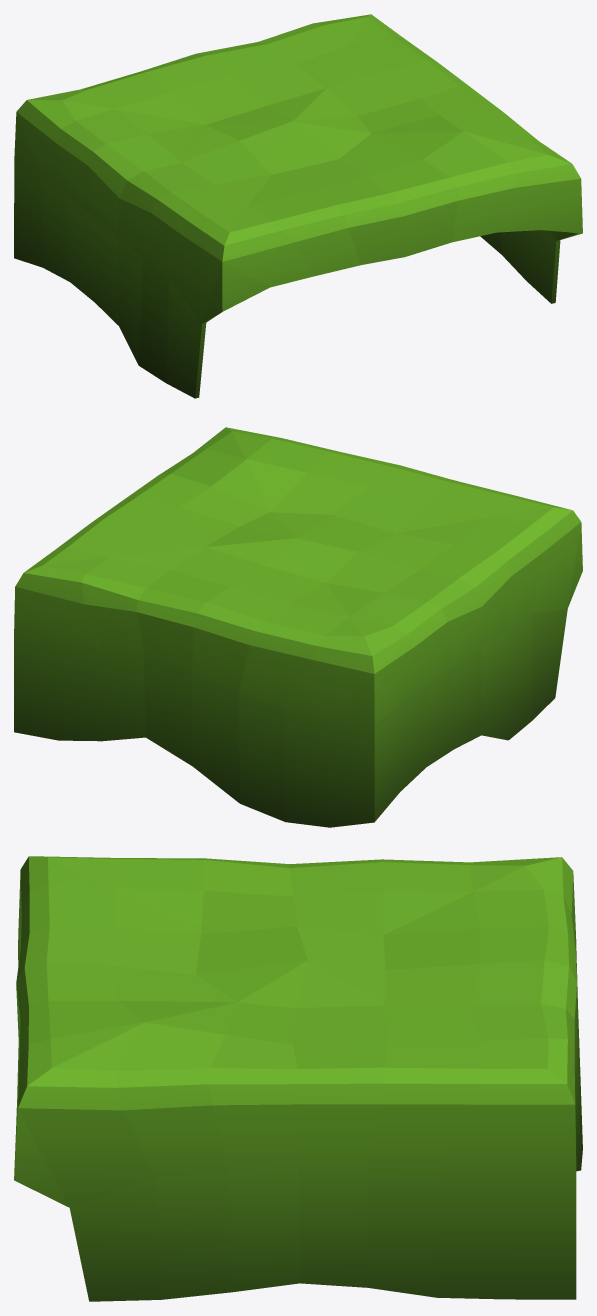
Rendered from SM_Fabric_Roof_Green.fbx.
3 views of the same model, one above another, from view 1: azimuth 30°, elevation 25°; view 2: azimuth 150°, elevation 25°; view 3: azimuth 270°, elevation 25° (orthographic). The views are drawn at different scales.
Parts seen in each view (by area): view 1: Market_Fabric_Roof_Gleen_M2_Mash; view 2: Market_Fabric_Roof_Gleen_M2_Mash; view 3: Market_Fabric_Roof_Gleen_M2_Mash.
Part boxes in pixels (x1=…): Market_Fabric_Roof_Gleen_M2_Mash: x1=14, y1=14, x2=582, y2=398; Market_Fabric_Roof_Gleen_M2_Mash: x1=14, y1=427, x2=582, y2=827; Market_Fabric_Roof_Gleen_M2_Mash: x1=14, y1=856, x2=582, y2=1301.
Bounding box in the file's own units: 3.53 × 1.77 × 3.53.
